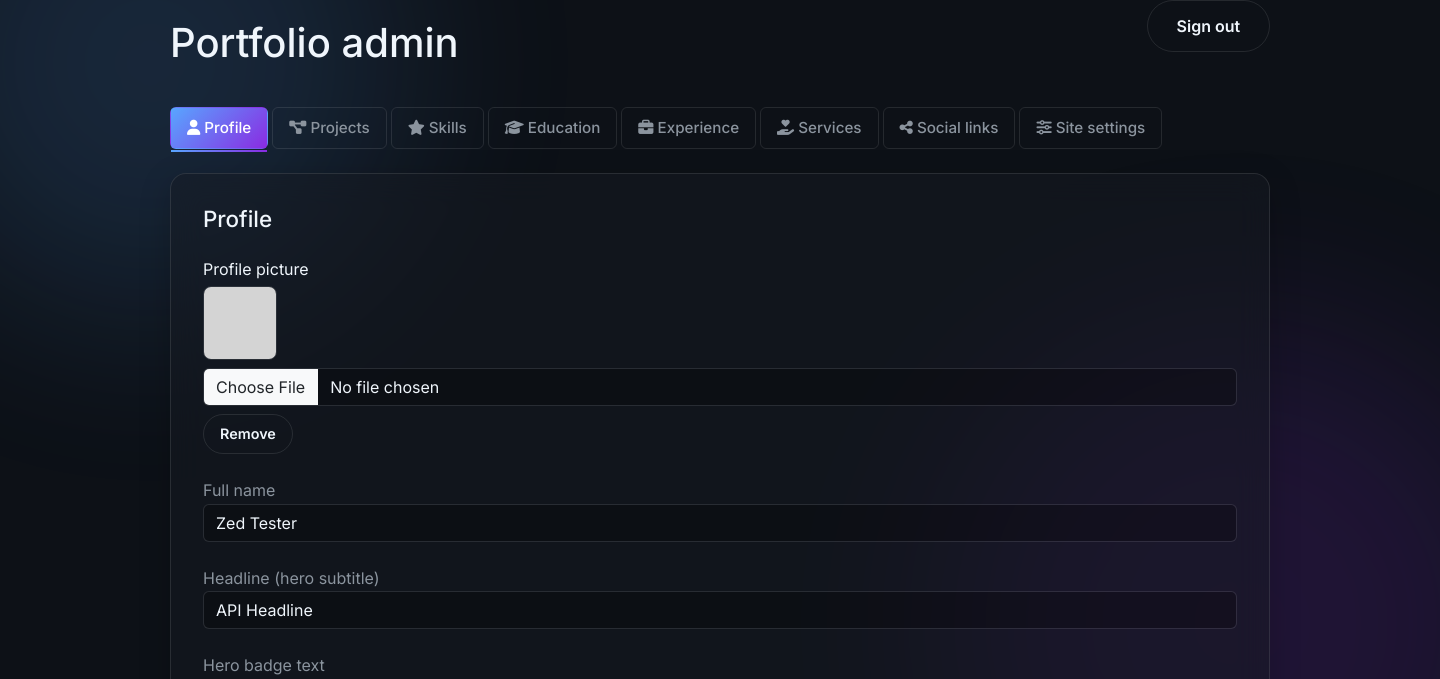
Test: admin dashboard › shows API validation errors and keeps the form open
Expected: the field labelled "Full name" is shown, x1=203 y1=504 x2=1237 y2=542
Step 1. Click the tab "Projects" → (330, 128), box x1=272 y1=107 x2=387 y2=149
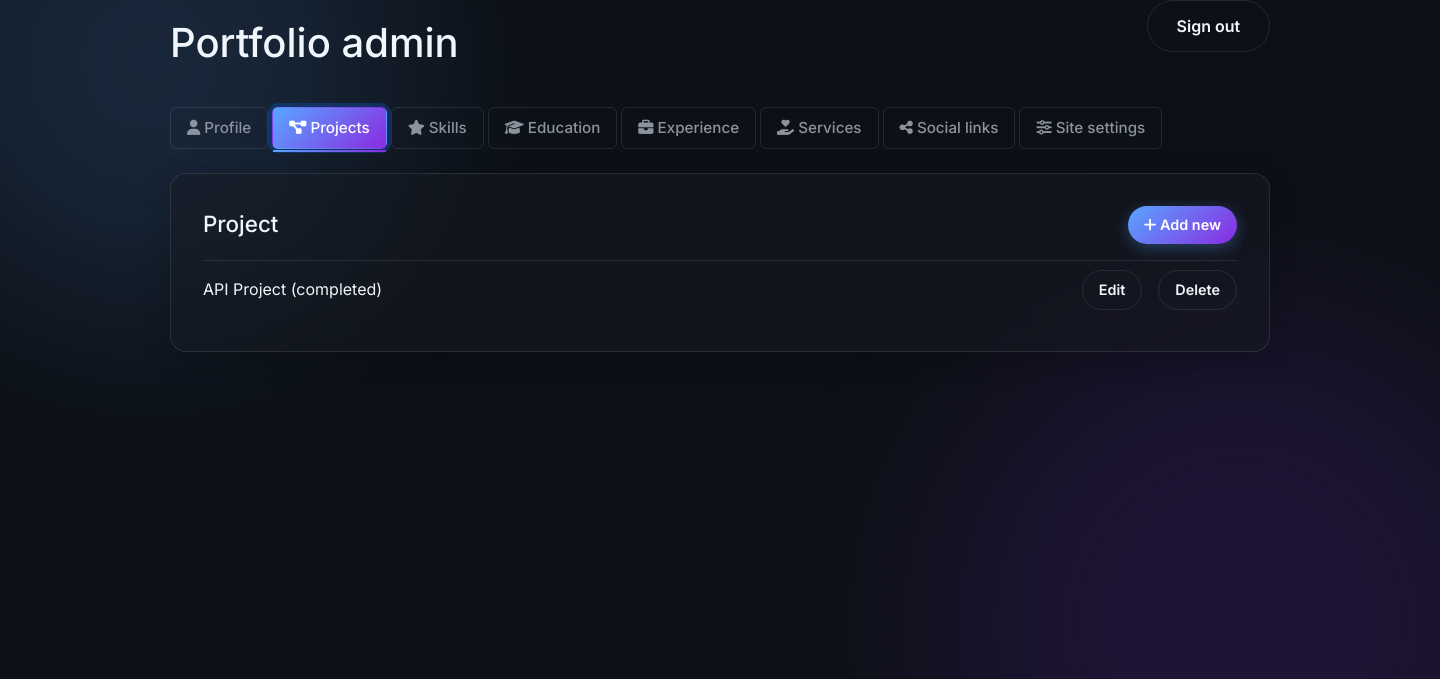
Step 2. Click the button "Add new" → (1182, 225), box x1=1128 y1=206 x2=1237 y2=244
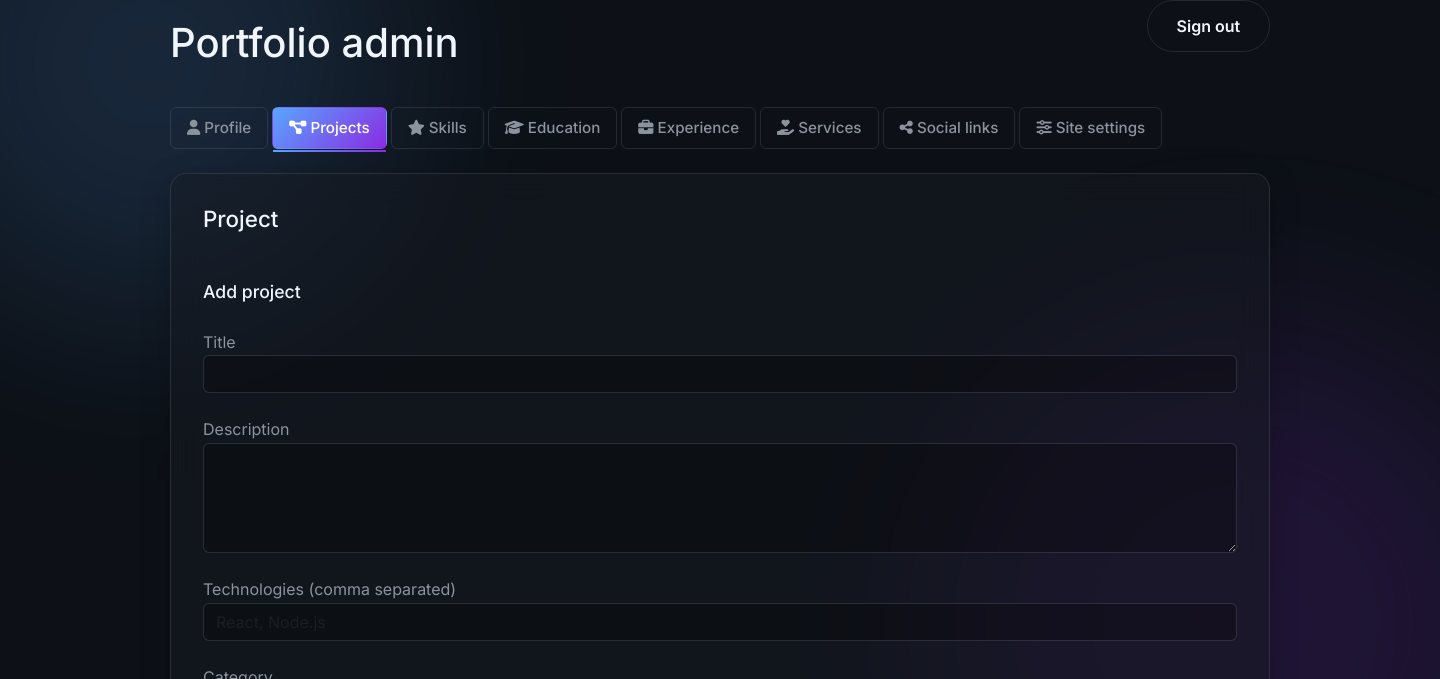
Step 3. Type "New" into the field labelled "Title" → (720, 374), box x1=203 y1=356 x2=1237 y2=394
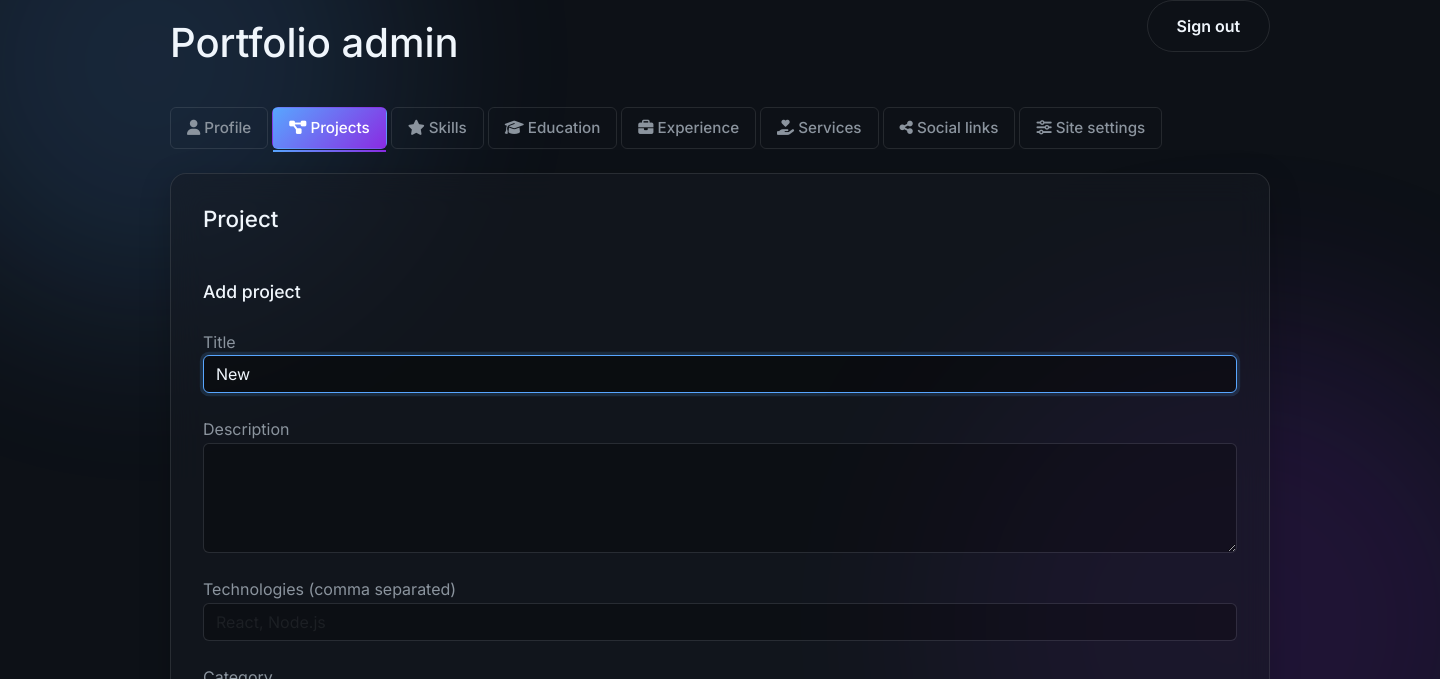
Step 4. Type "Desc" into the text box labelled "Description" → (720, 498), box x1=203 y1=443 x2=1237 y2=553
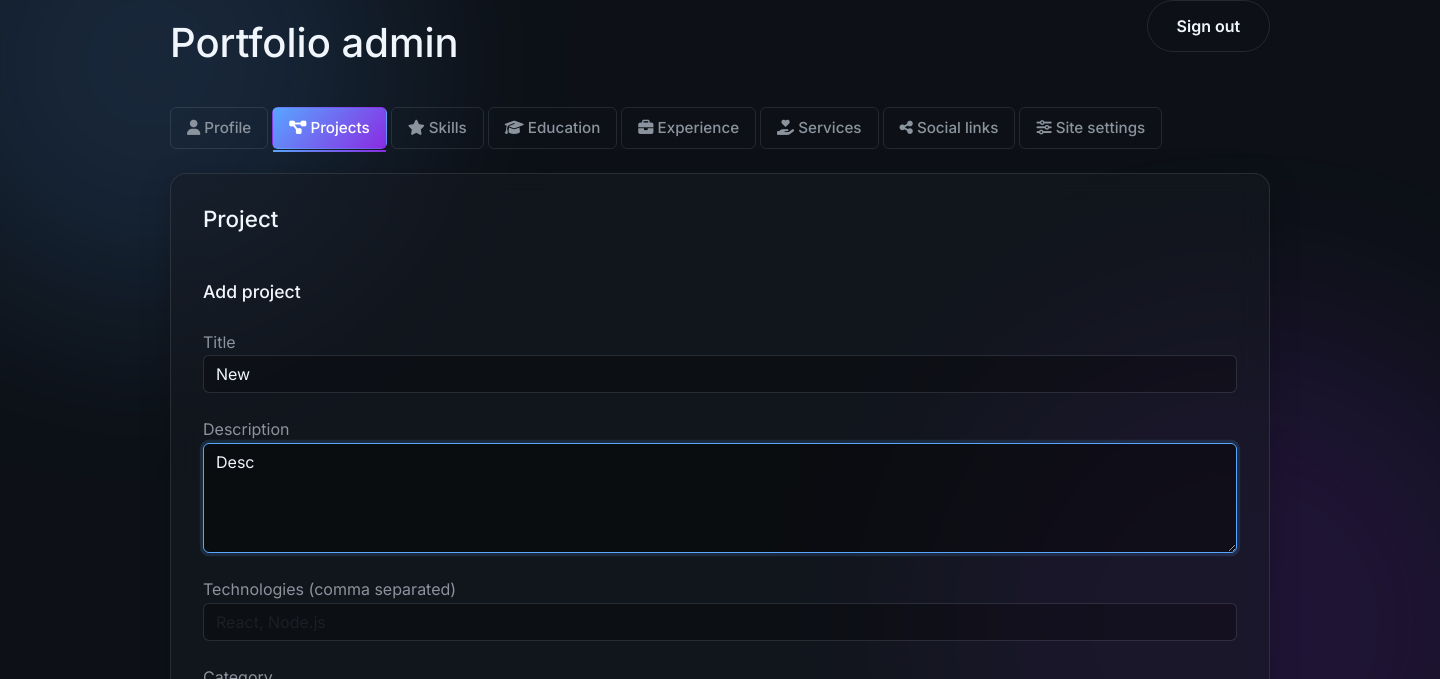
Step 5. Type "React, Node" into the field labelled "Technologies (comma separated)" → (720, 622), box x1=203 y1=603 x2=1237 y2=641
(page scrolled)
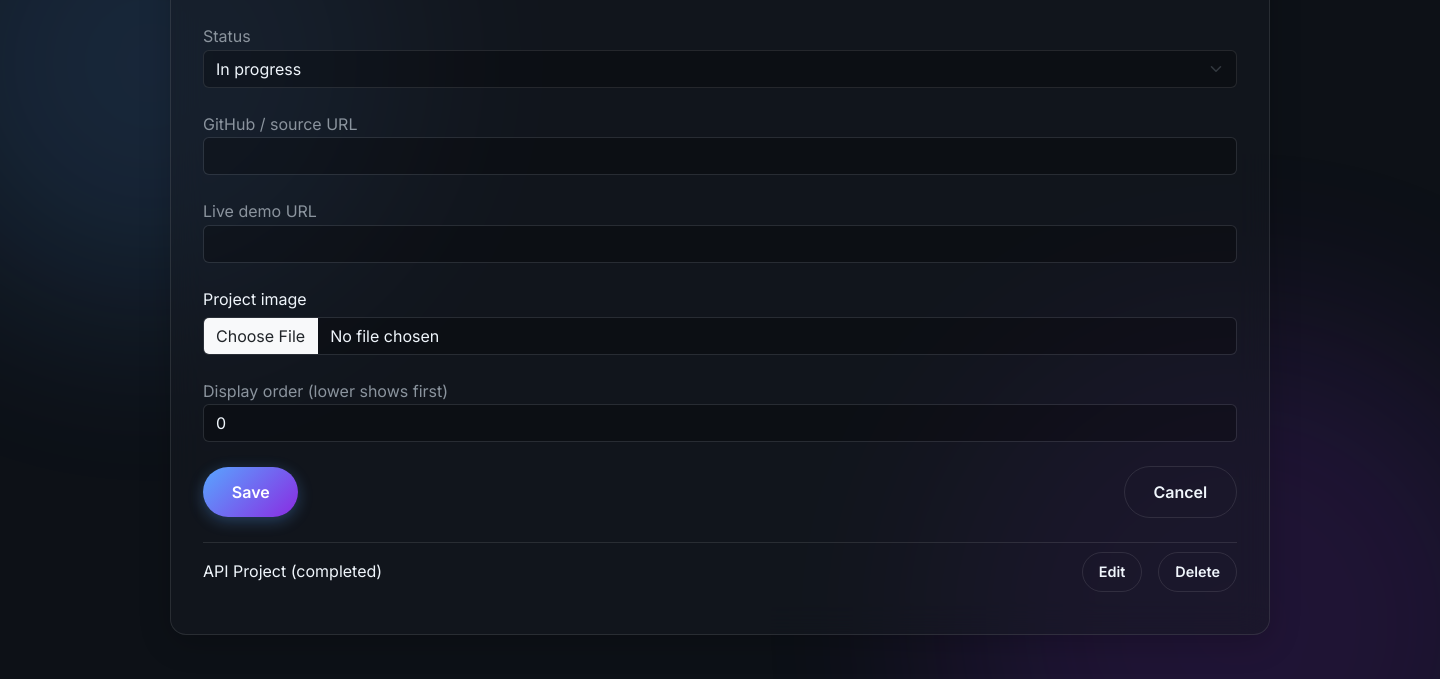
Step 6. Click the button "Save" → (251, 492), box x1=203 y1=467 x2=298 y2=517
(page scrolled)
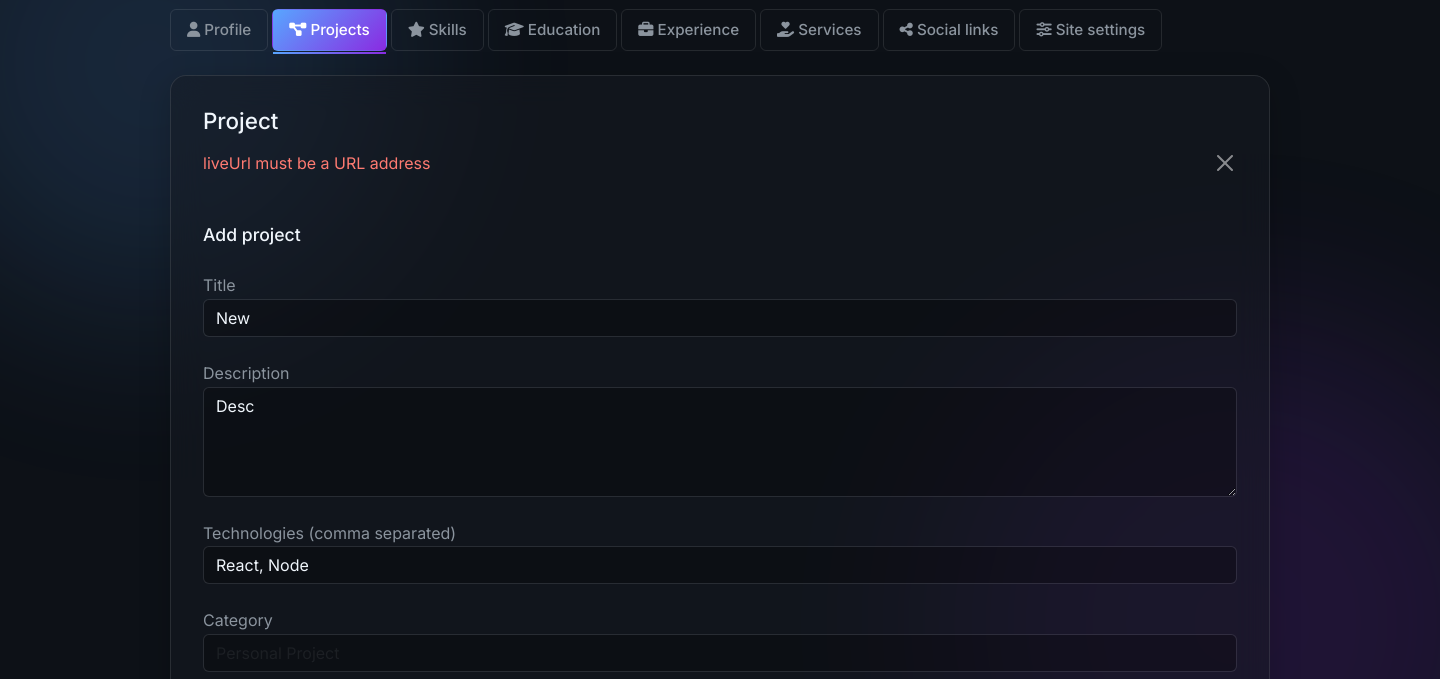
Now the message reads "liveUrl must be a URL address", box x1=203 y1=153 x2=430 y2=173
